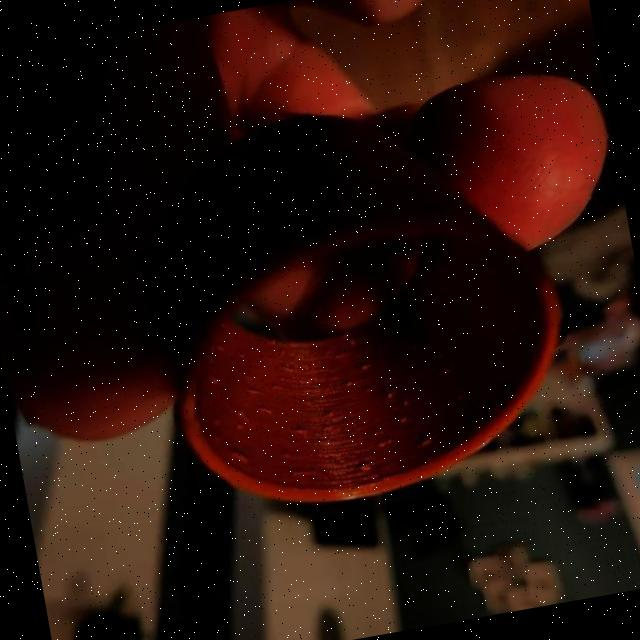blobs: (230, 444, 254, 464), (416, 432, 435, 450), (342, 374, 360, 392), (212, 340, 230, 358), (394, 411, 413, 428), (316, 419, 334, 436), (353, 457, 372, 473), (483, 378, 499, 395), (439, 363, 456, 379), (320, 404, 337, 420), (232, 417, 249, 432), (451, 389, 468, 404), (276, 362, 294, 376), (373, 438, 388, 454), (397, 394, 412, 410), (276, 447, 294, 460), (383, 387, 398, 402), (248, 386, 263, 400), (294, 423, 310, 436), (358, 360, 373, 373), (236, 352, 248, 365), (346, 336, 360, 347), (316, 436, 328, 447), (234, 408, 246, 418)
